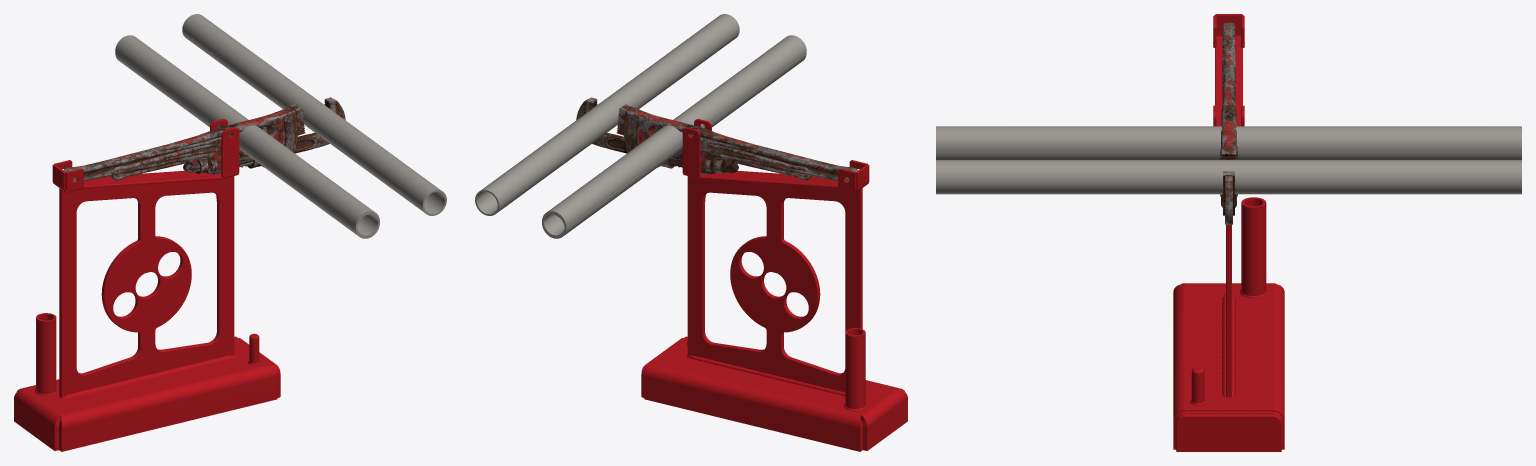
File: support-avec-cles.glb
3 views of the same model, side by side, from view 1: azimuth 30°, elevation 25°; view 2: azimuth 150°, elevation 25°; view 3: azimuth 270°, elevation 25° (orthographic). The views are drawn at different scales.
Parts seen in each view (by area): view 1: SM_Support_Pipewrench, Tige_NQ_36po, Tige_NQ_24po, Cle_36po, Cle_24po, Tige_NQ_18po, Cle_18po; view 2: SM_Support_Pipewrench, Tige_NQ_36po, Tige_NQ_24po, Cle_36po, Cle_24po, Tige_NQ_18po, Cle_18po; view 3: SM_Support_Pipewrench, Tige_NQ_36po, Tige_NQ_24po, Tige_NQ_18po, Cle_36po.
Boxes of the visible parts, x1,y1,x2,y2 form: SM_Support_Pipewrench: (14, 119, 280, 451); Tige_NQ_36po: (182, 14, 446, 215); Tige_NQ_24po: (115, 35, 379, 237); Cle_36po: (73, 97, 345, 175); Cle_24po: (63, 126, 266, 181); Tige_NQ_18po: (115, 52, 379, 238); Cle_18po: (110, 128, 261, 180); SM_Support_Pipewrench: (641, 119, 907, 451); Tige_NQ_36po: (475, 14, 739, 215); Tige_NQ_24po: (542, 35, 806, 237); Cle_36po: (576, 97, 848, 175); Cle_24po: (655, 126, 858, 181); Tige_NQ_18po: (542, 52, 806, 238); Cle_18po: (660, 128, 811, 180); SM_Support_Pipewrench: (1173, 14, 1284, 451); Tige_NQ_36po: (936, 160, 1521, 194); Tige_NQ_24po: (936, 126, 1521, 151); Tige_NQ_18po: (936, 151, 1521, 159); Cle_36po: (1220, 27, 1237, 225).
Bounding box in the file's own units: 0.8957 × 0.7311 × 1.2.
3 materials, 1 textured.
